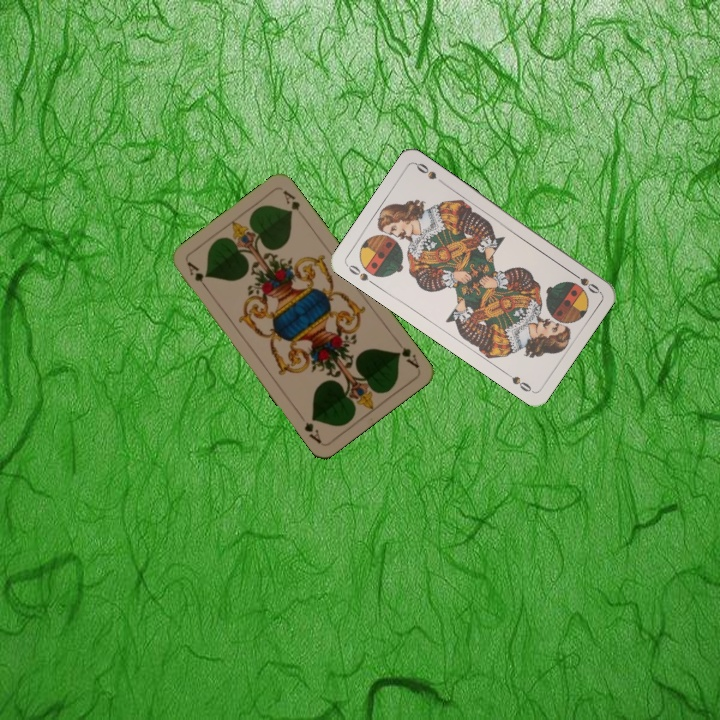GA: (393, 336, 422, 371), (183, 258, 211, 293)
SO: (566, 267, 602, 296), (343, 261, 378, 288)
